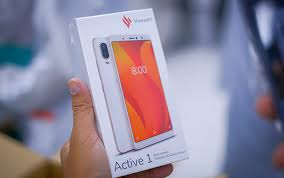vsmart: (106, 34, 176, 148)
